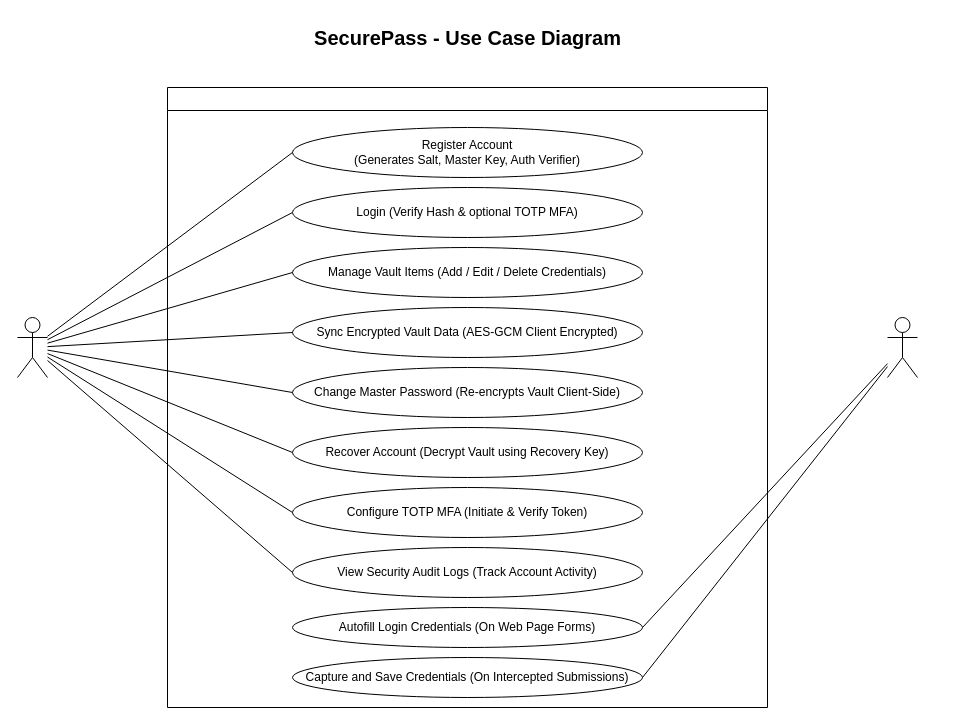
The diagram is 974 pixels wide and 725 high, and some of its shapes have lost their labels. The box of each missing label's shape, as (x1, y1, x2, y2) in pixels:
Browser Extension: (886, 316, 918, 378)
SecurePass Application: (166, 86, 768, 708)
User: (16, 316, 48, 378)
